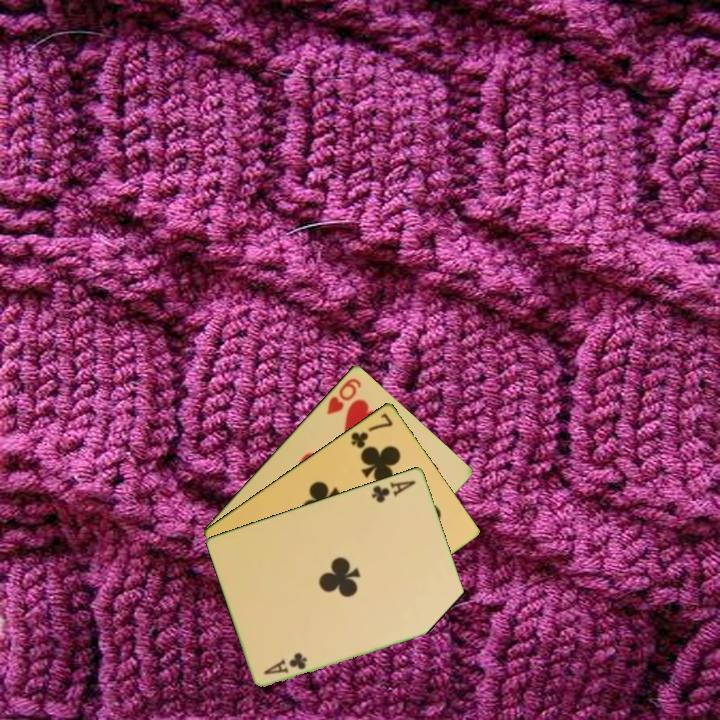6h: (323, 374, 364, 417)
7c: (347, 409, 396, 451)
Ac: (368, 476, 419, 505), (260, 649, 310, 677)
